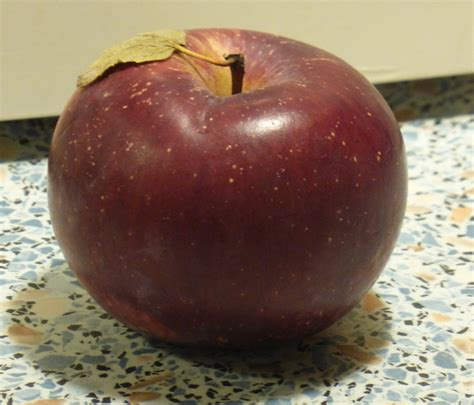apple: (46, 25, 410, 358)
